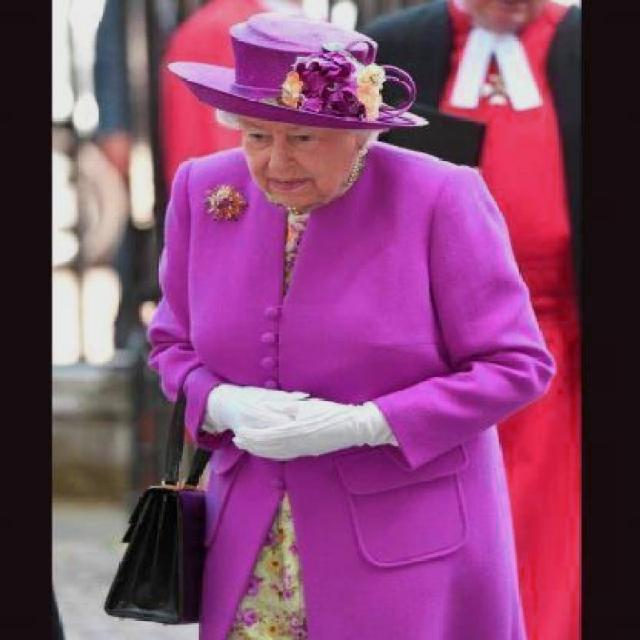face_nomask: (246, 105, 340, 209)
hand_glove: (234, 394, 355, 458), (218, 388, 310, 435)
person: (120, 14, 554, 640)
